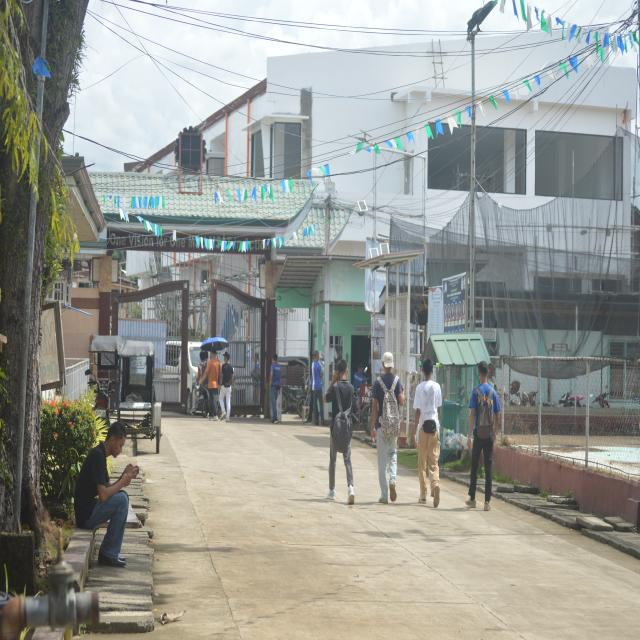person: (74, 423, 138, 566), (466, 361, 500, 511), (371, 352, 404, 503), (414, 359, 442, 507), (324, 360, 353, 499), (202, 353, 221, 420), (308, 351, 324, 425), (220, 352, 233, 420), (270, 354, 280, 423)
